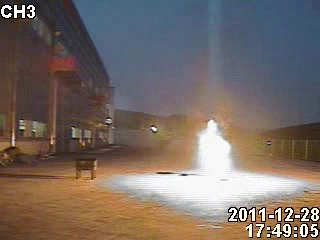fire: (191, 117, 233, 177)
